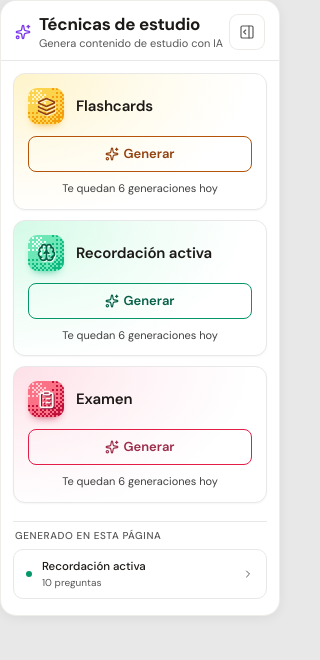
it: TechniquesPanel › generated items list › re-reads the recall summary after a generation and adds its row
Step 1. Click the button with test id "generate-recall-questions" → [140, 300], box [28,282,252,318]
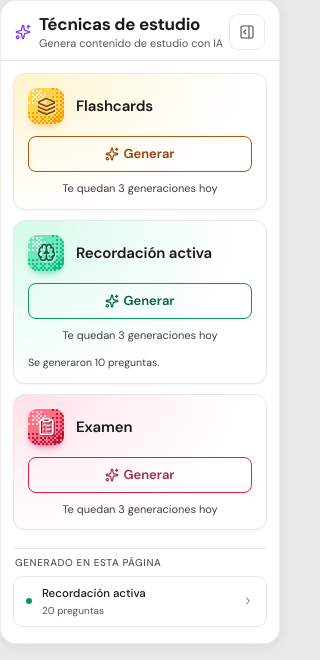
Check: the link with test id "generated-item-active-recall" shows "20 preguntas", box [13,576,267,627]
